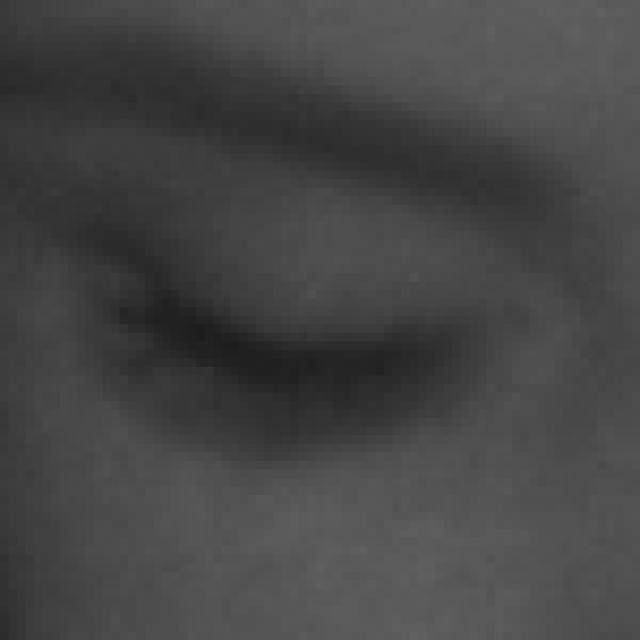Eyeclosed: (98, 198, 462, 516)
